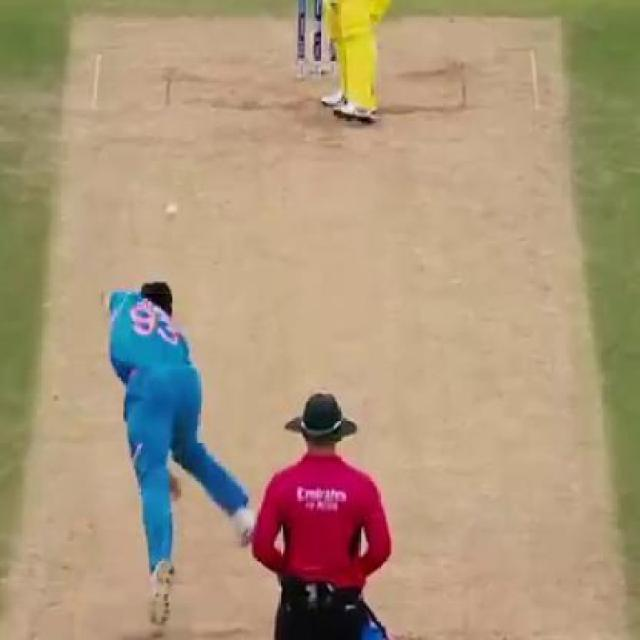Cricket ball: (162, 201, 182, 226)
